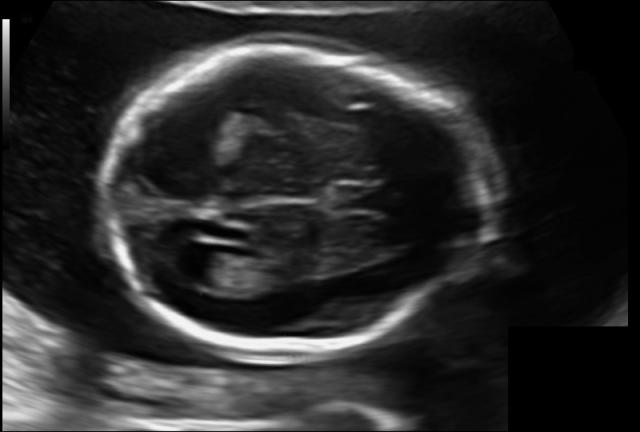CHOROID_PLEXUS: (174, 233, 304, 312)
CSP: (346, 172, 420, 227)
MIDLINE_FALX: (92, 154, 518, 244)
